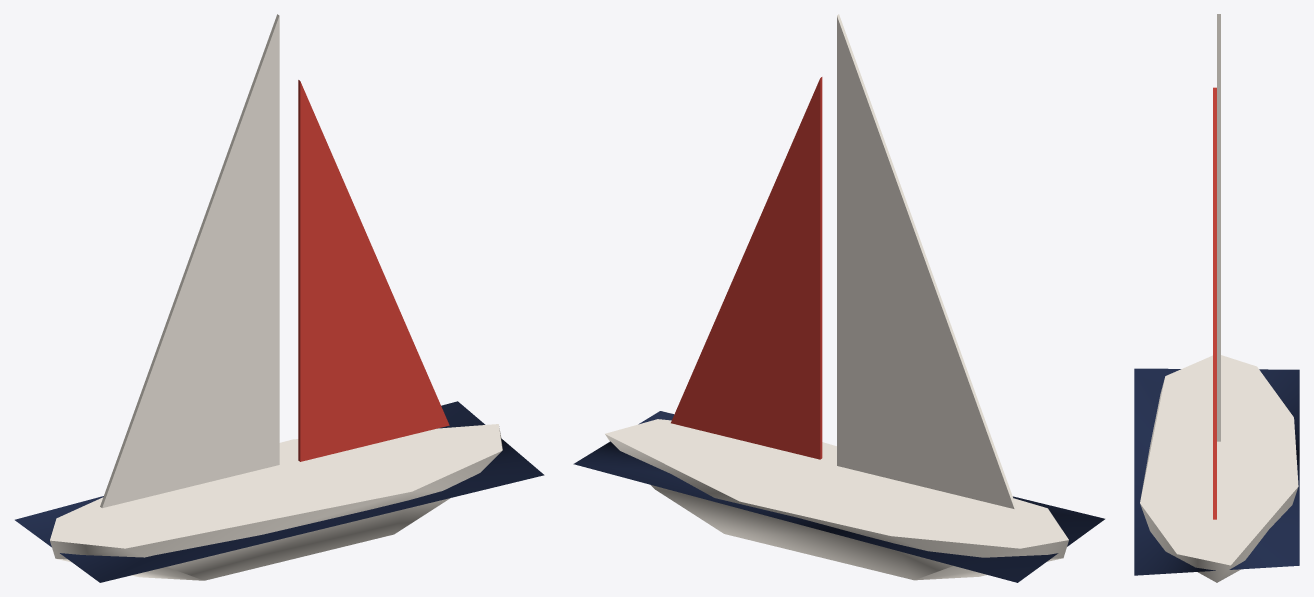
The model's file is sailboat.glb.
The picture shows the model from 3 angles, left to right: view 1: azimuth 30°, elevation 25°; view 2: azimuth 150°, elevation 25°; view 3: azimuth 270°, elevation 25°; orthographic projection. The views are drawn at different scales.
Visible parts, largest first — view 1: sailboat; view 2: sailboat; view 3: sailboat.
Part boxes in pixels (box(x1,y1,x2,y2)): sailboat: box(15, 14, 544, 582); sailboat: box(573, 14, 1104, 582); sailboat: box(1134, 14, 1299, 582).
Size of the model in its own units: 4.89 by 5.4 by 1.61.
Materials: 1 (1 with a texture image).
